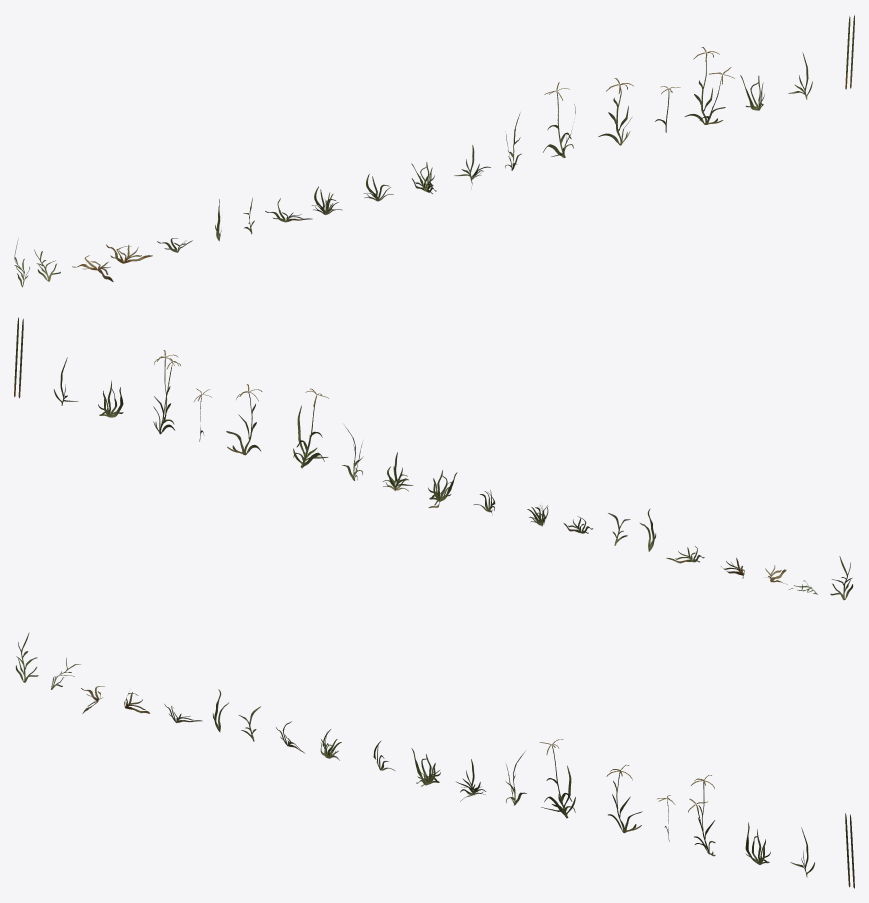
The model's file is grass_bermuda_01.gltf.
3 renders of one model, top to bottom at view 1: azimuth 30°, elevation 25°; view 2: azimuth 150°, elevation 25°; view 3: azimuth 330°, elevation 25°, orthographic.
Parts seen in each view (by area): view 1: grass_bermuda_01_seedling_d; view 2: grass_bermuda_01_seedling_a; view 3: grass_bermuda_01_seedling_a.
Part boxes in pixels (x1,y1,x2,y2): grass_bermuda_01_seedling_d: [685, 47, 734, 124]; grass_bermuda_01_seedling_a: [293, 388, 328, 468]; grass_bermuda_01_seedling_a: [539, 739, 575, 818].
Size of the model in its own units: 1.69 by 0.1583 by 0.1422.
1 material, 1 textured.
